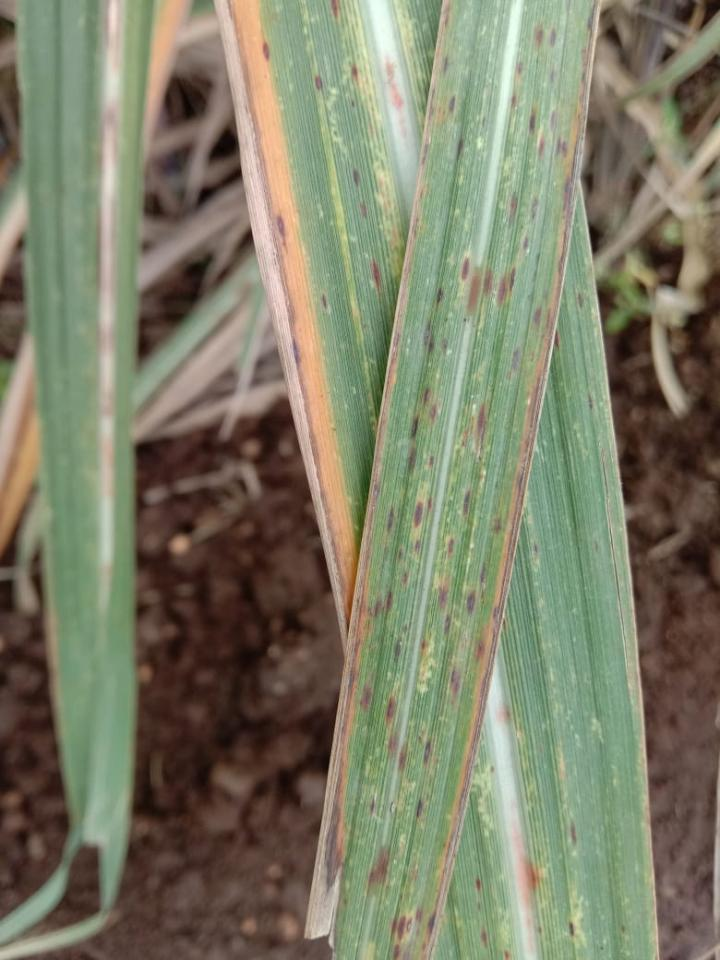RedRot: (386, 54, 411, 150), (518, 833, 537, 925), (367, 844, 391, 887), (465, 266, 482, 321), (495, 701, 517, 724)
Rust: (349, 578, 367, 695), (460, 402, 489, 458), (389, 906, 426, 942), (493, 265, 518, 310), (356, 664, 376, 717), (366, 588, 395, 619), (419, 318, 438, 361), (502, 346, 521, 387), (446, 664, 463, 705), (404, 444, 420, 484), (274, 212, 289, 252), (505, 191, 520, 228), (371, 259, 384, 299), (552, 133, 570, 159), (386, 693, 398, 730), (436, 581, 451, 610), (527, 196, 541, 226), (459, 254, 472, 285), (413, 500, 426, 531), (532, 25, 547, 51), (385, 503, 397, 535), (391, 634, 403, 666), (408, 412, 421, 441), (327, 0, 342, 24), (260, 36, 272, 66), (454, 138, 467, 165), (531, 306, 545, 331), (483, 266, 494, 297), (420, 383, 433, 409), (527, 110, 539, 137), (425, 400, 439, 423), (348, 61, 361, 85), (537, 132, 547, 163), (461, 489, 471, 520), (465, 587, 476, 615), (399, 741, 408, 774), (551, 327, 563, 351), (387, 735, 400, 757), (425, 911, 436, 937), (475, 638, 486, 663), (519, 234, 532, 255), (423, 736, 432, 766), (358, 198, 370, 220), (548, 109, 558, 135), (435, 285, 446, 307), (549, 27, 559, 51), (448, 93, 458, 116), (479, 562, 489, 585), (352, 167, 362, 188), (395, 547, 406, 566), (479, 930, 490, 949), (569, 824, 578, 847), (440, 337, 452, 354), (441, 54, 449, 78), (516, 59, 525, 79), (474, 876, 484, 894), (400, 944, 412, 959), (320, 290, 328, 312), (416, 799, 424, 821), (494, 516, 503, 535), (510, 92, 518, 113), (568, 919, 576, 940), (391, 944, 402, 959), (413, 539, 422, 557), (421, 637, 430, 655), (444, 613, 451, 636), (314, 75, 324, 91), (369, 797, 377, 817), (576, 292, 584, 310), (349, 97, 359, 111), (480, 115, 489, 130), (401, 571, 410, 586), (427, 456, 436, 470), (548, 70, 556, 85), (448, 538, 455, 554), (546, 310, 551, 330), (536, 252, 543, 265), (503, 949, 512, 959)
Yellow: (434, 97, 582, 889), (225, 0, 363, 628), (296, 3, 380, 438), (323, 1, 405, 278), (336, 535, 375, 861), (470, 719, 516, 959), (391, 0, 435, 133), (389, 832, 425, 959), (415, 610, 439, 698), (562, 882, 588, 952), (554, 738, 568, 809), (354, 940, 375, 959)
